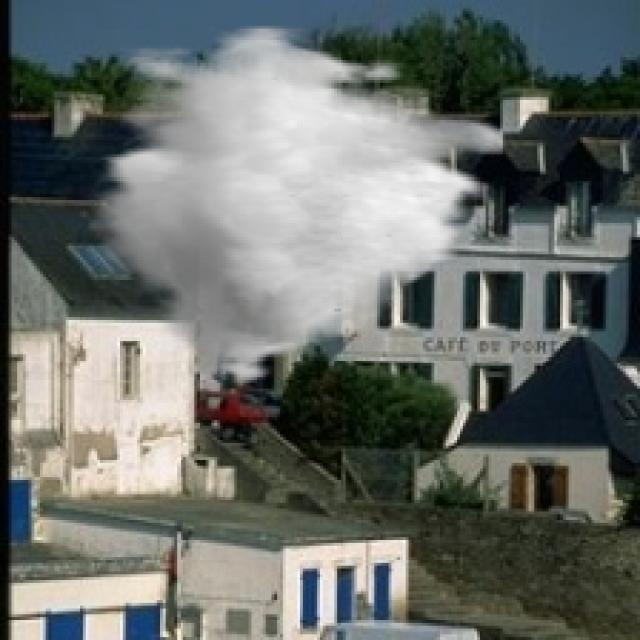Smoke: (88, 26, 506, 392)
